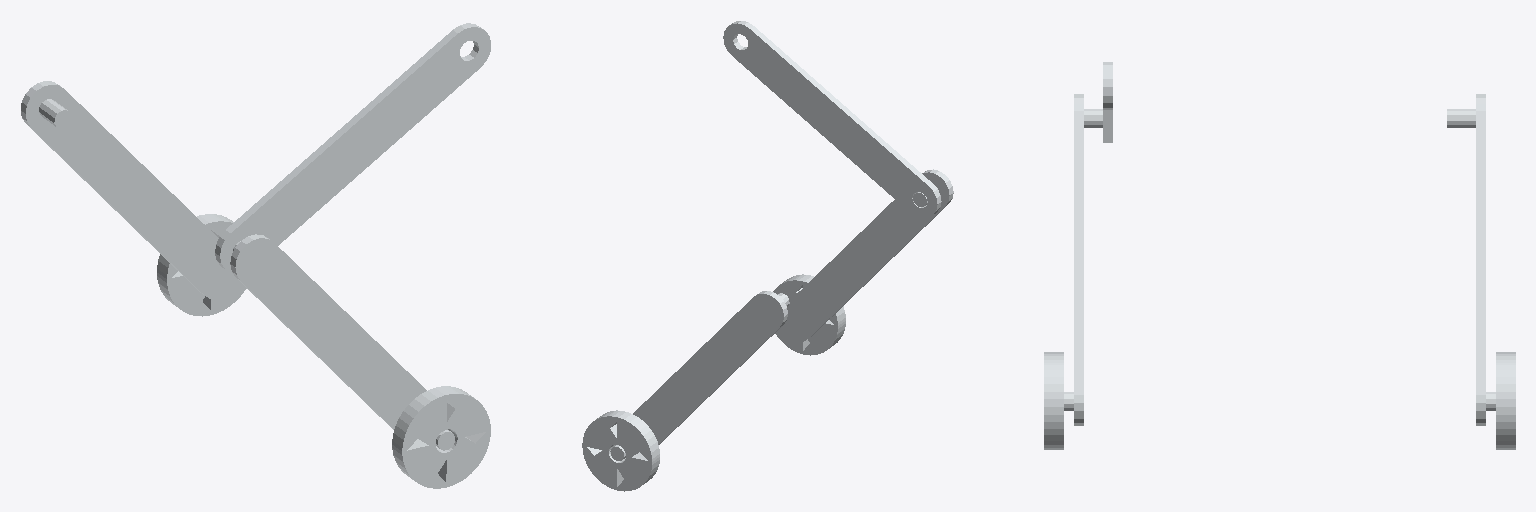
URDF robot description (Kneel_ver_mesh):
<?xml version="1.0" encoding="utf-8"?>
<!-- This URDF was automatically created by SolidWorks to URDF Exporter! Originally created by [author] ([email redacted]) 
     Commit Version: 1.6.0-4-g7f85cfe  Build Version: 1.6.7995.38578
     For more information, please see http://wiki.ros.org/sw_urdf_exporter -->
<robot
  name="Kneel_ver_mesh">
  <link
    name="base_link">
    <inertial>
      <origin
        xyz="-2.77555756156289E-17 0 0"
        rpy="0 0 0" />
      <mass
        value="8.15089380098816" />
      <inertia
        ixx="0.0688906731120014"
        ixy="-9.75781955236957E-19"
        ixz="-1.87350135405496E-19"
        iyy="0.0135025446900494"
        iyz="1.95156391047391E-18"
        izz="0.0688906731120014" />
    </inertial>
    <visual>
      <origin
        xyz="0 0 0"
        rpy="0 0 0" />
      <geometry>
        <mesh
          filename="package://Kneel_ver_mesh/meshes/base_link.STL" />
      </geometry>
      <material
        name="">
        <color
          rgba="0.898039215686275 0.917647058823529 0.929411764705882 1" />
      </material>
    </visual>
    <collision>
      <origin
        xyz="0 0 0"
        rpy="0 0 0" />
      <geometry>
        <mesh
          filename="package://Kneel_ver_mesh/meshes/base_link.STL" />
      </geometry>
    </collision>
  </link>
  <link
    name="left_thigh_link">
    <inertial>
      <origin
        xyz="0.15 -8.32667268468867E-17 -0.00499999999999995"
        rpy="0 0 0" />
      <mass
        value="0.437487209630772" />
      <inertia
        ixx="9.56832762179494E-05"
        ixy="5.42101086242752E-19"
        ixz="-5.76285460492069E-21"
        iyy="0.00394852049291032"
        iyz="-2.79847523146801E-22"
        izz="0.00403691231563443" />
    </inertial>
    <visual>
      <origin
        xyz="0 0 0"
        rpy="0 0 0" />
      <geometry>
        <mesh
          filename="package://Kneel_ver_mesh/meshes/left_thigh_link.STL" />
      </geometry>
      <material
        name="">
        <color
          rgba="0.898039215686275 0.917647058823529 0.929411764705882 1" />
      </material>
    </visual>
    <collision>
      <origin
        xyz="0 0 0"
        rpy="0 0 0" />
      <geometry>
        <mesh
          filename="package://Kneel_ver_mesh/meshes/left_thigh_link.STL" />
      </geometry>
    </collision>
  </link>
  <joint
    name="left_thigh_joint"
    type="revolute">
    <origin
      xyz="0 0.18 0"
      rpy="1.5708 0.54612 3.1416" />
    <parent
      link="base_link" />
    <child
      link="left_thigh_link" />
    <axis
      xyz="0 0 1" />
    <limit
      lower="-3.14"
      upper="3.14"
      effort="0"
      velocity="0" />
  </joint>
  <link
    name="left_shank_link">
    <inertial>
      <origin
        xyz="0.15 -1.04083408558608E-17 0.0350000000000001"
        rpy="0 0 0" />
      <mass
        value="0.508908177017483" />
      <inertia
        ixx="0.000121922183215571"
        ixy="2.98155597433514E-19"
        ixz="-0.000152681402964464"
        iyy="0.00558173116610893"
        iyz="1.34491861246055E-20"
        izz="0.00564767066545193" />
    </inertial>
    <visual>
      <origin
        xyz="0 0 0"
        rpy="0 0 0" />
      <geometry>
        <mesh
          filename="package://Kneel_ver_mesh/meshes/left_shank_link.STL" />
      </geometry>
      <material
        name="">
        <color
          rgba="0.898039215686275 0.917647058823529 0.929411764705882 1" />
      </material>
    </visual>
    <collision>
      <origin
        xyz="0 0 0"
        rpy="0 0 0" />
      <geometry>
        <mesh
          filename="package://Kneel_ver_mesh/meshes/left_shank_link.STL" />
      </geometry>
    </collision>
  </link>
  <joint
    name="left_knee_joint"
    type="revolute">
    <origin
      xyz="0.3 0 -0.01"
      rpy="0 0 -1.7371" />
    <parent
      link="left_thigh_link" />
    <child
      link="left_shank_link" />
    <axis
      xyz="0 0 1" />
    <limit
      lower="-3.14"
      upper="3.14"
      effort="0"
      velocity="0" />
  </joint>
  <link
    name="left_wheel_link">
    <inertial>
      <origin
        xyz="-1.49880108324396E-15 -6.06459327201492E-15 0.0600000000000001"
        rpy="0 0 0" />
      <mass
        value="0.370607820219958" />
      <inertia
        ixx="0.000261554099622148"
        ixy="-5.42101086242752E-20"
        ixz="-3.85588731069336E-21"
        iyy="0.000261554099622148"
        iyz="1.00664796610483E-20"
        izz="0.000498401011229632" />
    </inertial>
    <visual>
      <origin
        xyz="0 0 0"
        rpy="0 0 0" />
      <geometry>
        <mesh
          filename="package://Kneel_ver_mesh/meshes/left_wheel_link.STL" />
      </geometry>
      <material
        name="">
        <color
          rgba="0.898039215686275 0.917647058823529 0.929411764705882 1" />
      </material>
    </visual>
    <collision>
      <origin
        xyz="0 0 0"
        rpy="0 0 0" />
      <geometry>
        <mesh
          filename="package://Kneel_ver_mesh/meshes/left_wheel_link.STL" />
      </geometry>
    </collision>
  </link>
  <joint
    name="left_wheel_joint"
    type="continuous">
    <origin
      xyz="0.3 0 0"
      rpy="0 0 0" />
    <parent
      link="left_shank_link" />
    <child
      link="left_wheel_link" />
    <axis
      xyz="0 0 1" />
  </joint>
  <link
    name="right_thigh_link">
    <inertial>
      <origin
        xyz="0.15 8.32667268468867E-17 0.005"
        rpy="0 0 0" />
      <mass
        value="0.437487209630772" />
      <inertia
        ixx="9.56832762179488E-05"
        ixy="4.43845264361253E-19"
        ixz="-6.89268406029142E-21"
        iyy="0.00394852049291032"
        iyz="-4.46583295823664E-21"
        izz="0.00403691231563442" />
    </inertial>
    <visual>
      <origin
        xyz="0 0 0"
        rpy="0 0 0" />
      <geometry>
        <mesh
          filename="package://Kneel_ver_mesh/meshes/right_thigh_link.STL" />
      </geometry>
      <material
        name="">
        <color
          rgba="0.898039215686275 0.917647058823529 0.929411764705882 1" />
      </material>
    </visual>
    <collision>
      <origin
        xyz="0 0 0"
        rpy="0 0 0" />
      <geometry>
        <mesh
          filename="package://Kneel_ver_mesh/meshes/right_thigh_link.STL" />
      </geometry>
    </collision>
  </link>
  <joint
    name="right_hip_joint"
    type="revolute">
    <origin
      xyz="0 -0.18 0"
      rpy="1.5708 0.54612 3.1416" />
    <parent
      link="base_link" />
    <child
      link="right_thigh_link" />
    <axis
      xyz="0 0 -1" />
    <limit
      lower="-3.14"
      upper="3.14"
      effort="0"
      velocity="0" />
  </joint>
  <link
    name="right_shank_link">
    <inertial>
      <origin
        xyz="0.149999999999999 -5.83387504971E-15 -0.035"
        rpy="0 0 0" />
      <mass
        value="0.508908177017483" />
      <inertia
        ixx="0.000121922183215572"
        ixy="2.87991202066462E-19"
        ixz="0.000152681402964464"
        iyy="0.00558173116610893"
        iyz="-2.7289178677024E-20"
        izz="0.00564767066545193" />
    </inertial>
    <visual>
      <origin
        xyz="0 0 0"
        rpy="0 0 0" />
      <geometry>
        <mesh
          filename="package://Kneel_ver_mesh/meshes/right_shank_link.STL" />
      </geometry>
      <material
        name="">
        <color
          rgba="0.898039215686275 0.917647058823529 0.929411764705882 1" />
      </material>
    </visual>
    <collision>
      <origin
        xyz="0 0 0"
        rpy="0 0 0" />
      <geometry>
        <mesh
          filename="package://Kneel_ver_mesh/meshes/right_shank_link.STL" />
      </geometry>
    </collision>
  </link>
  <joint
    name="right_knee_joint"
    type="revolute">
    <origin
      xyz="0.3 0 0.01"
      rpy="0 0 -1.7371" />
    <parent
      link="right_thigh_link" />
    <child
      link="right_shank_link" />
    <axis
      xyz="0 0 1" />
    <limit
      lower="-3.14"
      upper="3.14"
      effort="0"
      velocity="0" />
  </joint>
  <link
    name="right_wheel_link">
    <inertial>
      <origin
        xyz="-1.33226762955019E-15 -6.0507154842071E-15 -0.06"
        rpy="0 0 0" />
      <mass
        value="0.370607820219958" />
      <inertia
        ixx="0.000261554099622148"
        ixy="1.35525271560688E-20"
        ixz="-9.39955618294363E-21"
        iyy="0.000261554099622148"
        iyz="7.8154619221772E-21"
        izz="0.000498401011229632" />
    </inertial>
    <visual>
      <origin
        xyz="0 0 0"
        rpy="0 0 0" />
      <geometry>
        <mesh
          filename="package://Kneel_ver_mesh/meshes/right_wheel_link.STL" />
      </geometry>
      <material
        name="">
        <color
          rgba="0.898039215686275 0.917647058823529 0.929411764705882 1" />
      </material>
    </visual>
    <collision>
      <origin
        xyz="0 0 0"
        rpy="0 0 0" />
      <geometry>
        <mesh
          filename="package://Kneel_ver_mesh/meshes/right_wheel_link.STL" />
      </geometry>
    </collision>
  </link>
  <joint
    name="right_wheel_joint"
    type="continuous">
    <origin
      xyz="0.3 0 0"
      rpy="0 0 0" />
    <parent
      link="right_shank_link" />
    <child
      link="right_wheel_link" />
    <axis
      xyz="0 0 -1" />
  </joint>
</robot>

--- Render facts (derived) ---
3 views of the same robot in one strip: view 1: azimuth 30°, elevation 25°; view 2: azimuth 150°, elevation 25°; view 3: azimuth 270°, elevation 25° (orthographic).
Robot: Kneel_ver_mesh — 7 links, 6 joints (4 revolute, 2 continuous); root link base_link; default pose: all joints at 0.
Links seen in each view (by area): view 1: right_thigh_link, left_shank_link, right_shank_link, right_wheel_link, left_wheel_link; view 2: right_thigh_link, left_shank_link, right_shank_link, left_wheel_link, right_wheel_link; view 3: left_shank_link, right_shank_link, left_wheel_link, right_wheel_link, right_thigh_link.
Boxes of the visible links, box(x1,y1,x2,y2) form: right_thigh_link: box(215, 23, 490, 273); left_shank_link: box(21, 81, 240, 299); right_shank_link: box(230, 234, 454, 450); right_wheel_link: box(392, 386, 490, 488); left_wheel_link: box(157, 214, 246, 316); right_thigh_link: box(723, 21, 941, 218); left_shank_link: box(610, 291, 789, 460); right_shank_link: box(780, 169, 953, 342); left_wheel_link: box(582, 410, 659, 491); right_wheel_link: box(773, 274, 845, 355); left_shank_link: box(1447, 94, 1495, 425); right_shank_link: box(1064, 94, 1102, 425); left_wheel_link: box(1496, 352, 1515, 449); right_wheel_link: box(1044, 352, 1063, 449); right_thigh_link: box(1103, 62, 1112, 142).
Bounding box of the posed robot: 0.3064 × 0.48 × 0.4575 m (x, y, z).
5 mesh visuals loaded from 7 distinct referenced files (5 binary STL); not drawn: 2 (reference not matched to a file when rendering).